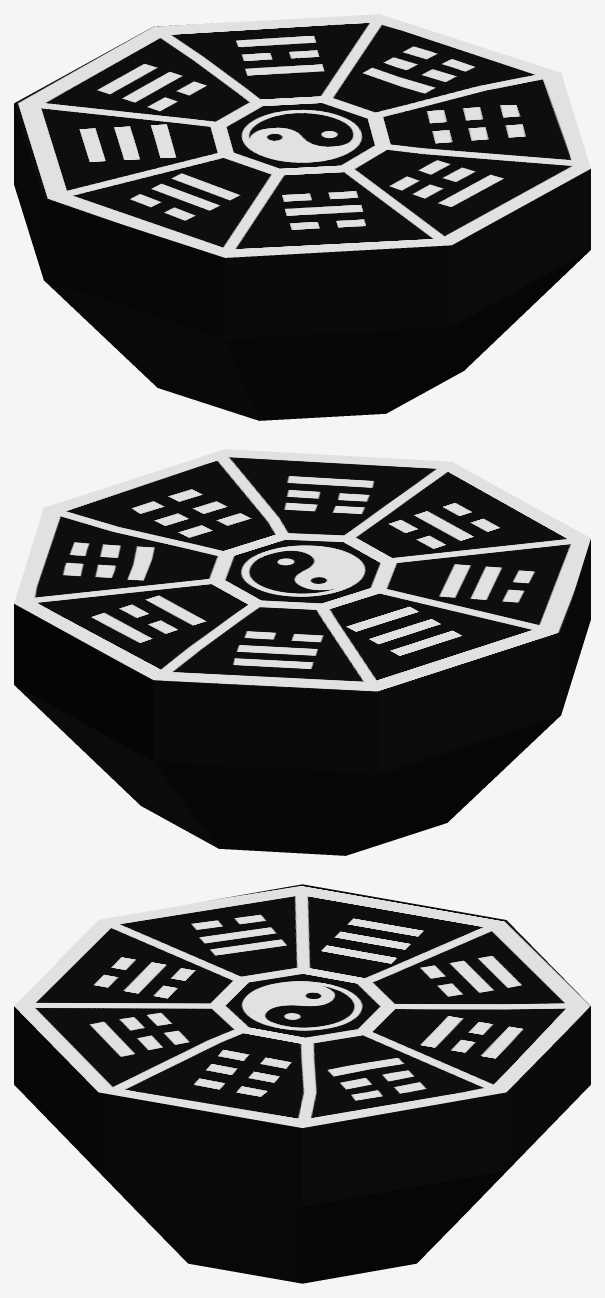
The model's file is marisa_hakkeiro.obj.
The picture shows the model from 3 angles, top to bottom: view 1: azimuth 30°, elevation 25°; view 2: azimuth 150°, elevation 25°; view 3: azimuth 270°, elevation 25°; orthographic projection. The views are drawn at different scales.
Parts seen in each view (by area): view 1: hakkeiro; view 2: hakkeiro; view 3: hakkeiro.
Part boxes in pixels (x1=…): hakkeiro: x1=14, y1=14, x2=590, y2=420; hakkeiro: x1=14, y1=449, x2=590, y2=855; hakkeiro: x1=14, y1=884, x2=590, y2=1283.
Size of the model in its own units: 2 by 0.8 by 2.
1 material, 1 textured.
